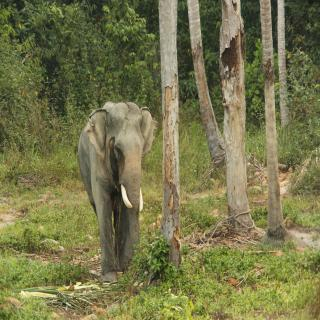Elephant: (77, 98, 157, 286)
